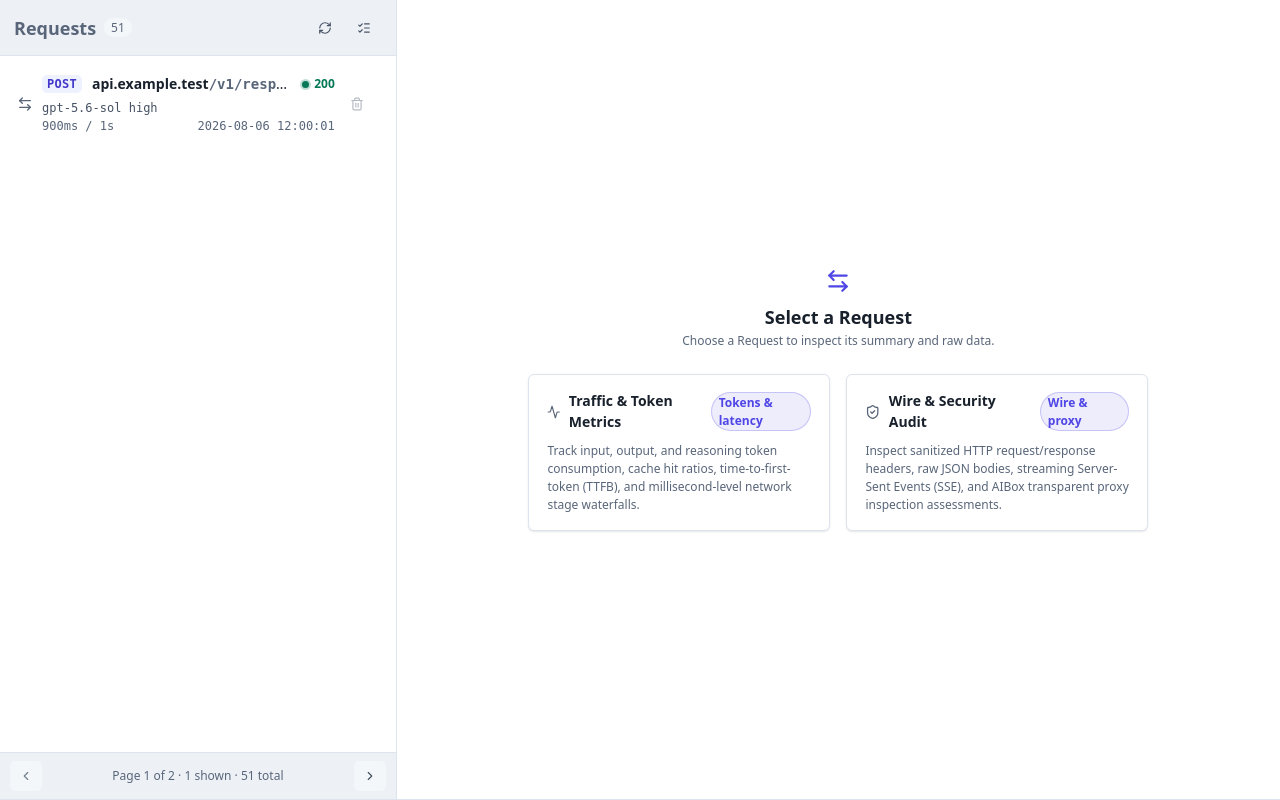
Scenario: Requests page selection and deletion › duplicates the pagination bar under the selection toolbar with the full page status
Click the button named "Select Requests" at (364, 28), box x1=346 y1=10 x2=382 y2=46
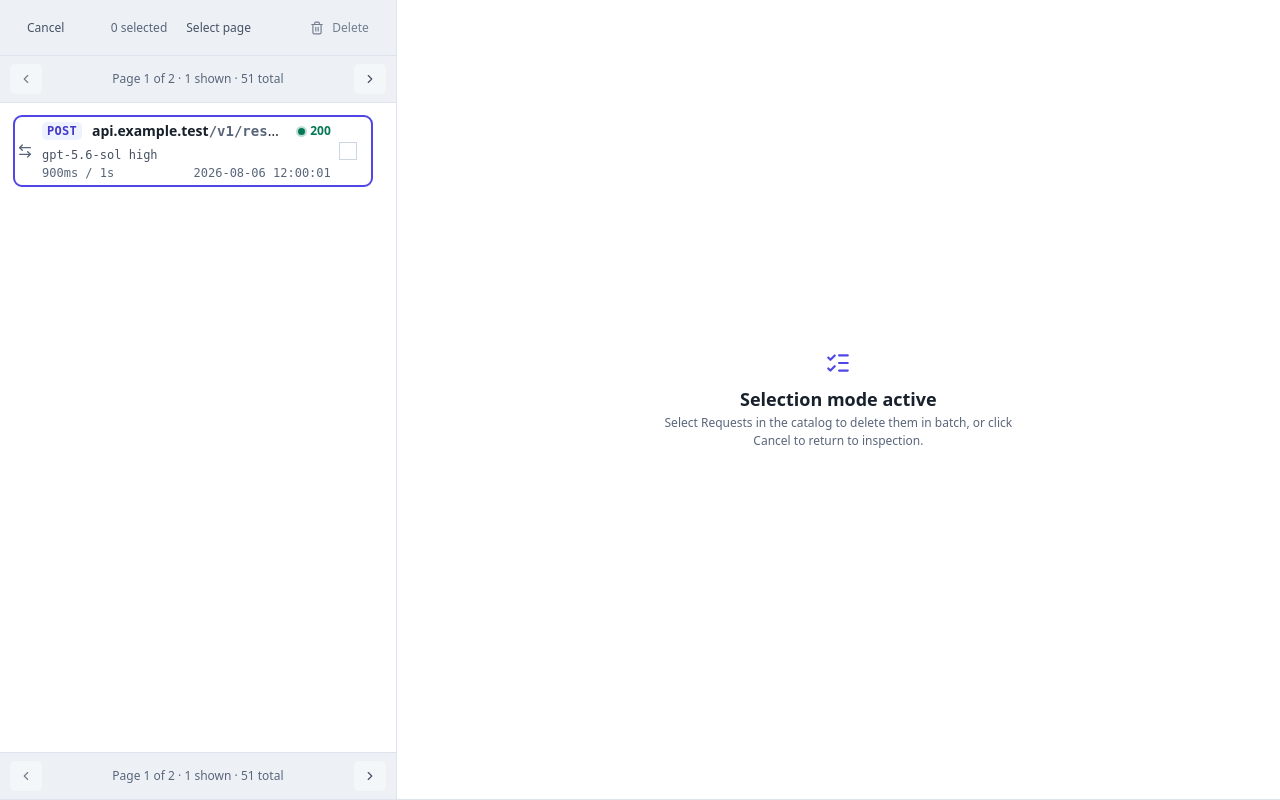
Check: the number of navigation bars named "Request pages" is 2, box x1=0 y1=56 x2=396 y2=103; x1=0 y1=752 x2=396 y2=799
Check: the text "Page 1 of 2 · 1 shown · 51 total" below "selected" is shown, box x1=112 y1=70 x2=284 y2=88
Check: the button "Select page" is shown, box x1=173 y1=10 x2=264 y2=46
Click the button named "Next" below "selected" at (370, 79), box x1=354 y1=64 x2=386 y2=94
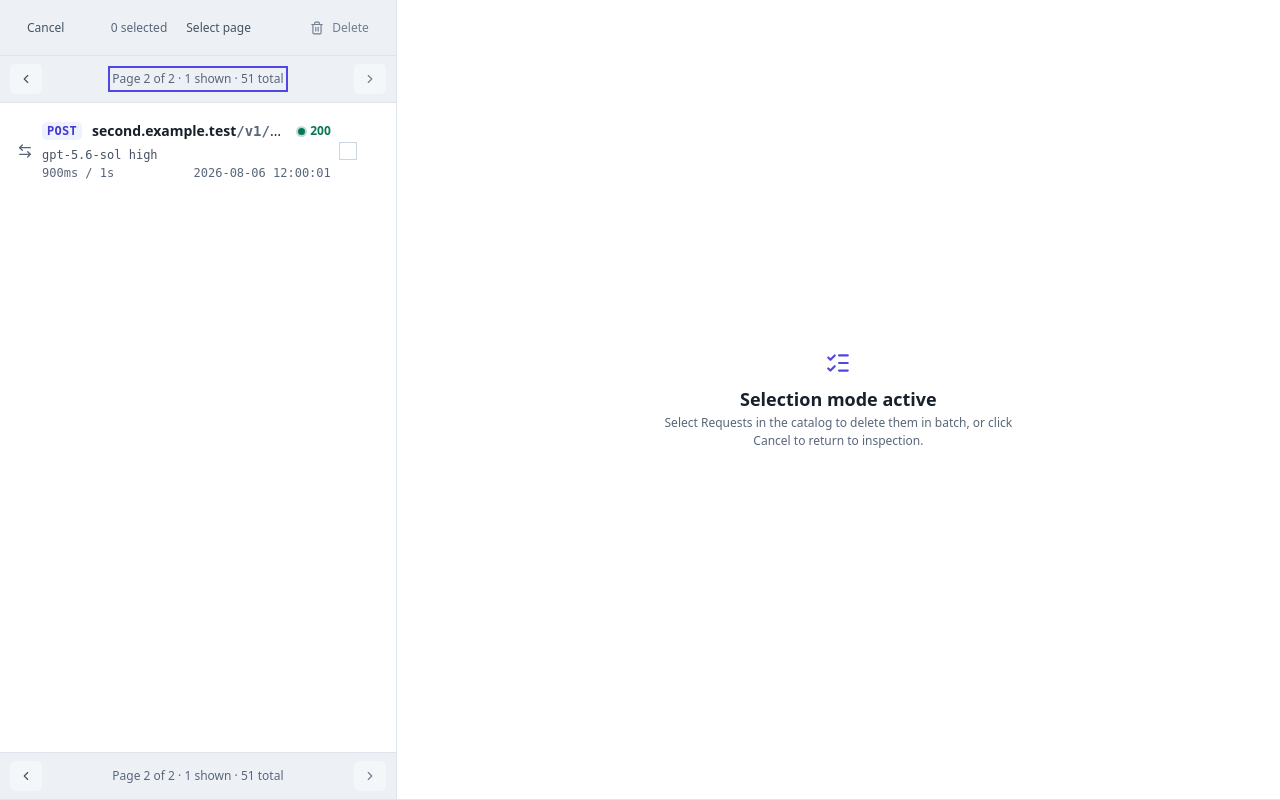
Check: the button with aria-label "Select POST second.example.test/v1/responses" is shown, box x1=17 y1=119 x2=369 y2=183
Check: the text "Page 2 of 2 · 1 shown · 51 total" below "selected" is shown, box x1=112 y1=70 x2=284 y2=88
Check: the 2nd text "Page 2 of 2 · 1 shown · 51 total" is shown, box x1=112 y1=767 x2=284 y2=785
Click the 2nd button named "Previous" at (26, 776), box x1=10 y1=761 x2=42 y2=791
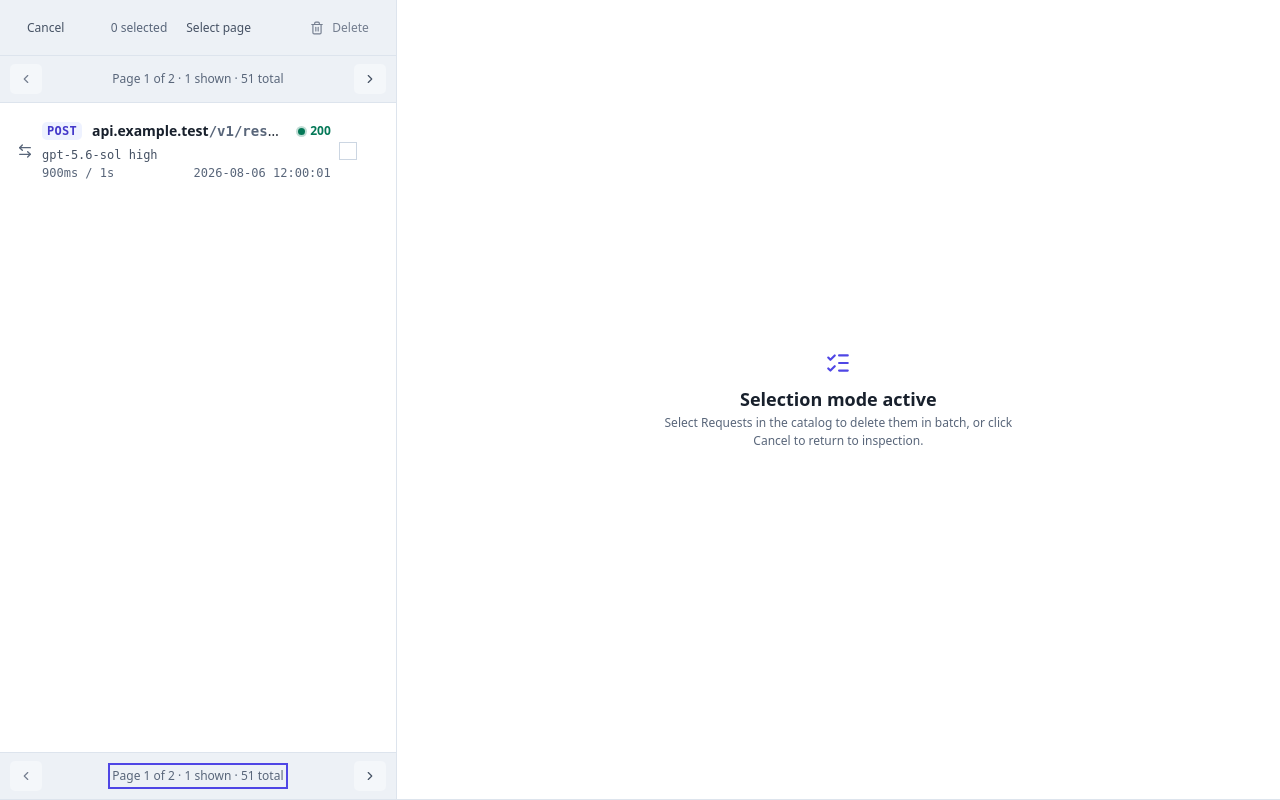
Check: the button with aria-label "Select POST api.example.test/v1/responses" is shown, box x1=17 y1=119 x2=369 y2=183
Check: the text "Page 1 of 2 · 1 shown · 51 total" below "selected" is shown, box x1=112 y1=70 x2=284 y2=88
Check: the 2nd text "Page 1 of 2 · 1 shown · 51 total" is shown, box x1=112 y1=767 x2=284 y2=785
